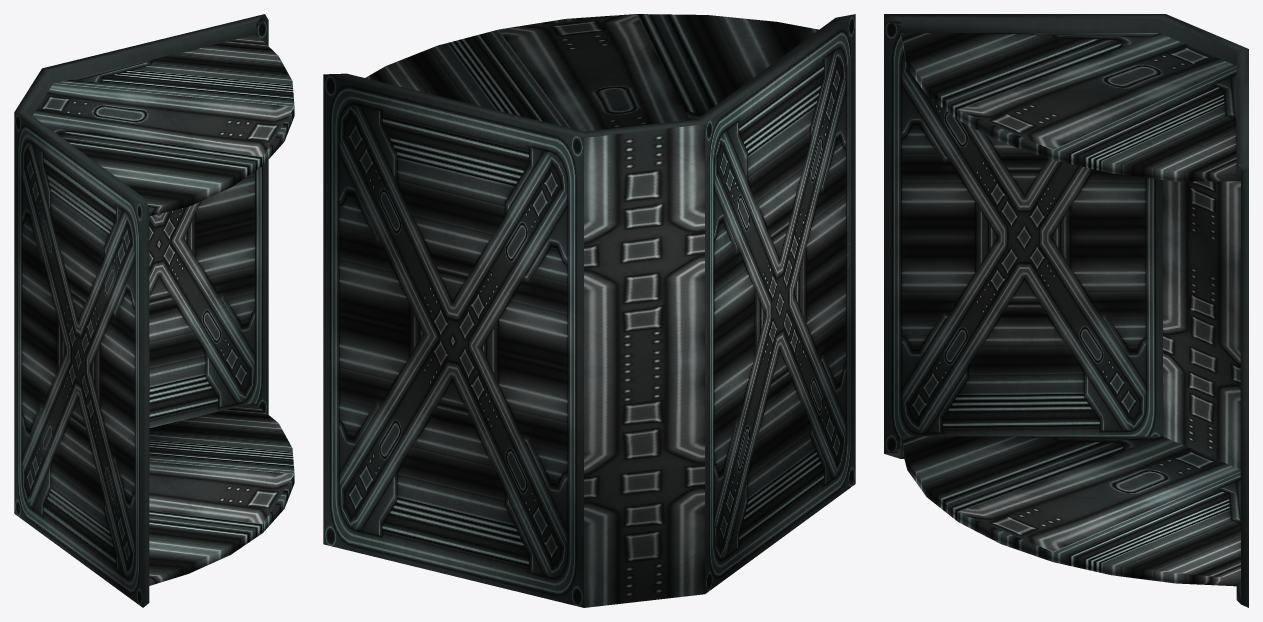
The model's file is Container_Open3.fbx.
The picture shows the model from 3 angles, left to right: view 1: azimuth 30°, elevation 25°; view 2: azimuth 150°, elevation 25°; view 3: azimuth 270°, elevation 25°; orthographic projection. The views are drawn at different scales.
Visible parts, largest first — view 1: Open Container2; view 2: Open Container2; view 3: Open Container2.
Part boxes in pixels (x1,y1,x2,y2): Open Container2: (14, 14, 294, 607); Open Container2: (323, 14, 855, 607); Open Container2: (884, 14, 1248, 607).
Bounding box in the file's own units: 172 × 229 × 172.
